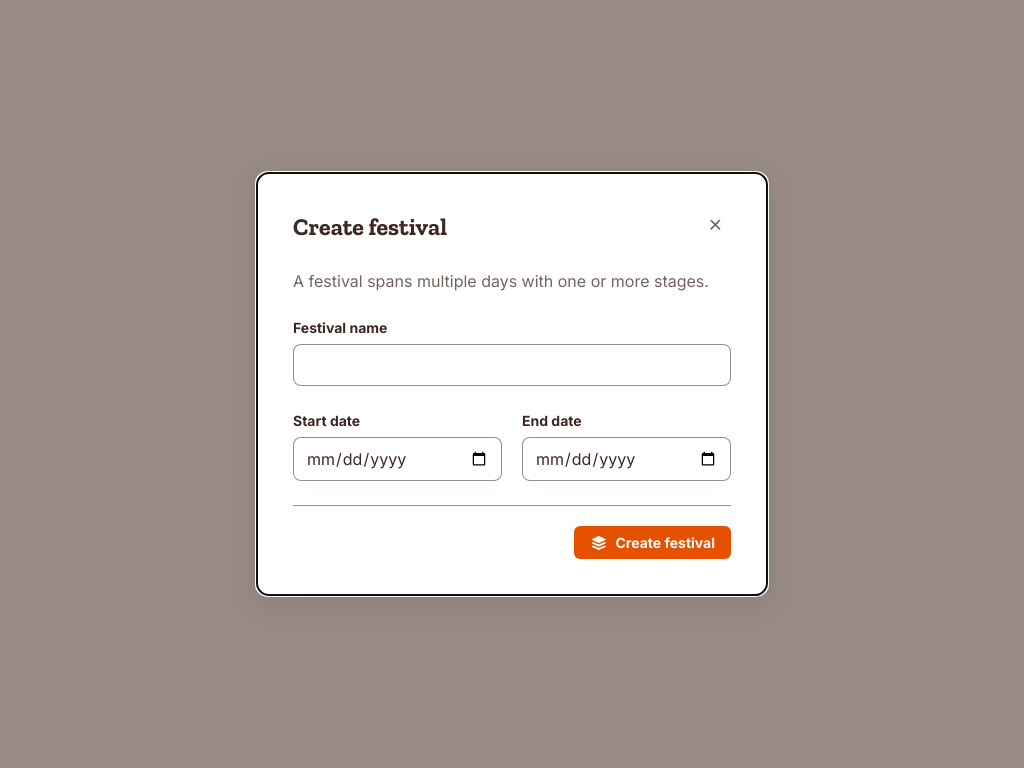
Test case: FestivalSetupModal › requires a festival name
Type "2026-08-14" into the date field labelled "Start date".
click(398, 459); type("2026-08-14")  # box x1=293 y1=437 x2=502 y2=481
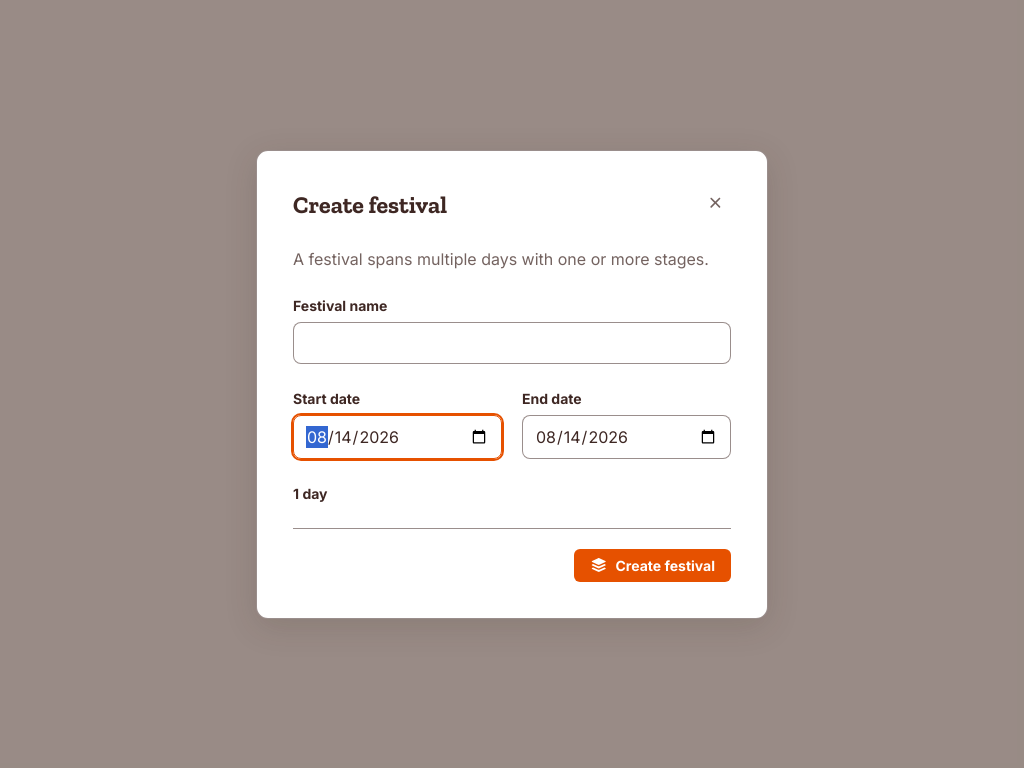
Clear the date field labelled "End date" at [626, 436], box x1=522 y1=414 x2=731 y2=458
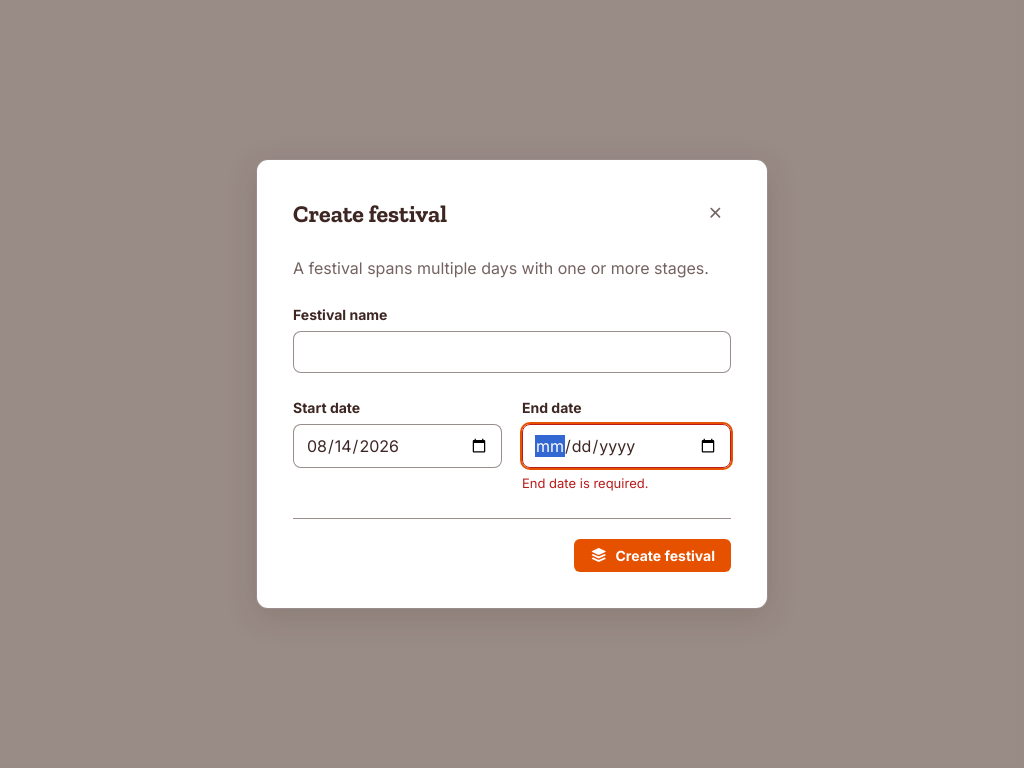
Type "2026-08-15" into the date field labelled "End date".
click(626, 446); type("2026-08-15")  # box x1=522 y1=424 x2=731 y2=468
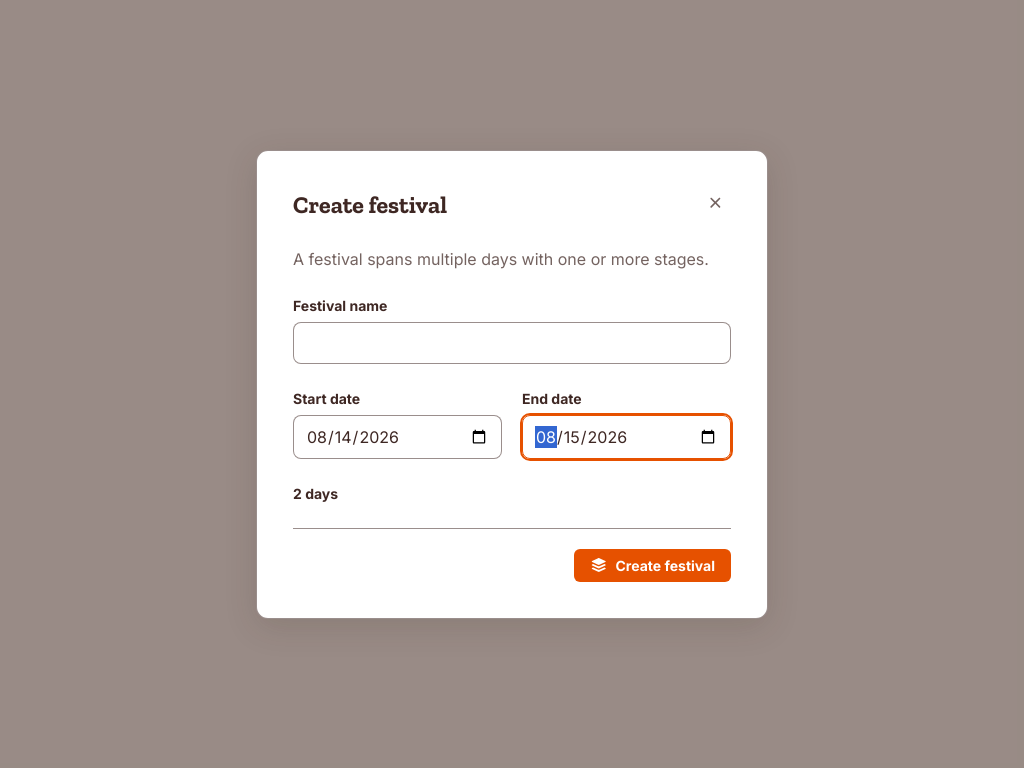
Click the button with test id "festival-setup-save".
click(652, 565)  # box x1=574 y1=548 x2=731 y2=582
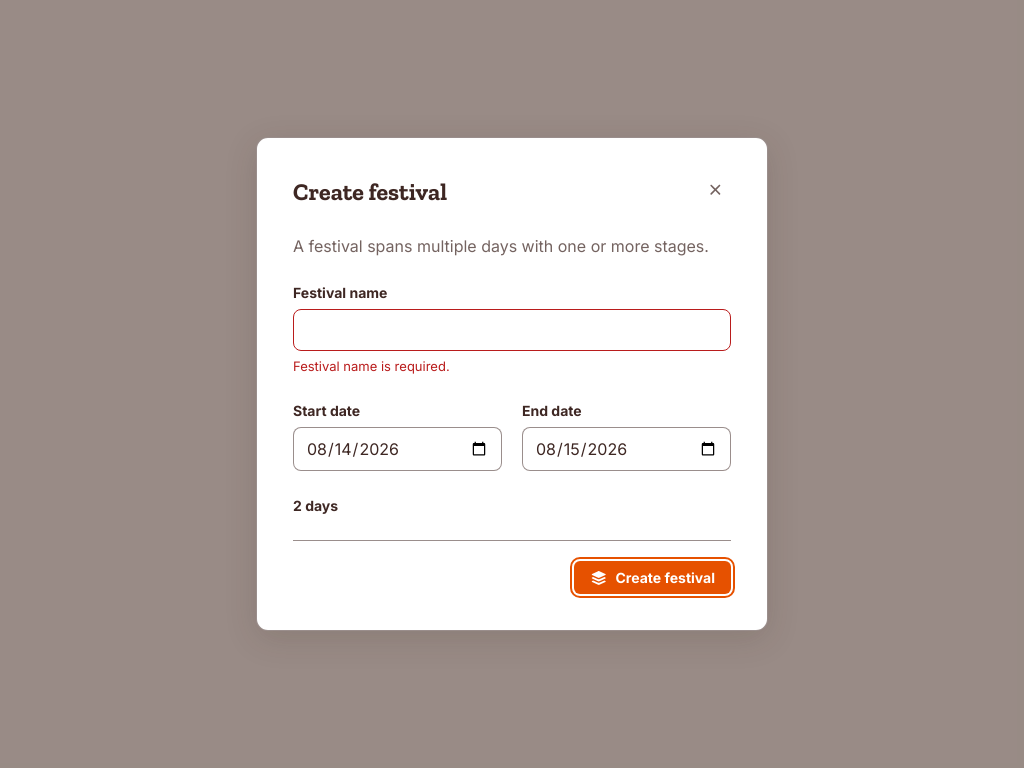
Check: the text "Festival name is required." is shown, box x1=293 y1=358 x2=450 y2=374
